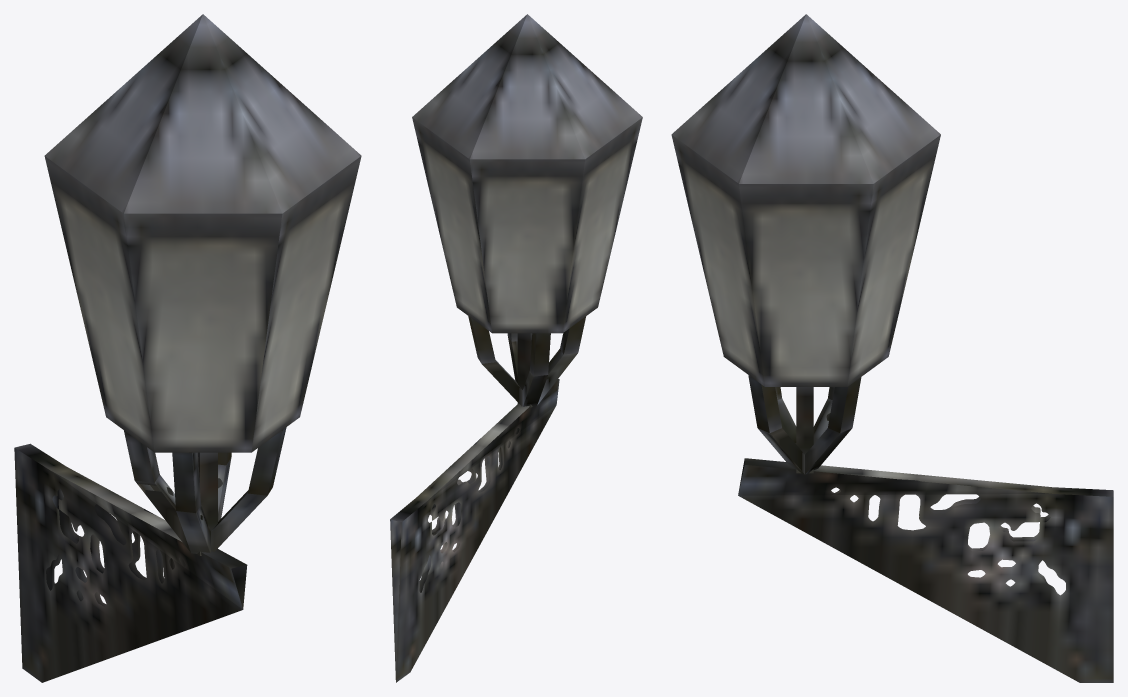
Rendered from Lamp01.obj.
3 renders of one model, left to right at view 1: azimuth 30°, elevation 25°; view 2: azimuth 150°, elevation 25°; view 3: azimuth 270°, elevation 25°, orthographic. The views are drawn at different scales.
Visible parts, largest first — view 1: Lamp01; view 2: Lamp01; view 3: Lamp01.
Part boxes in pixels (x1,y1,x2,y2): Lamp01: (14, 14, 361, 682); Lamp01: (390, 14, 642, 682); Lamp01: (671, 14, 1113, 682).
Bounding box in the file's own units: 0.2948 × 0.9317 × 0.558.
